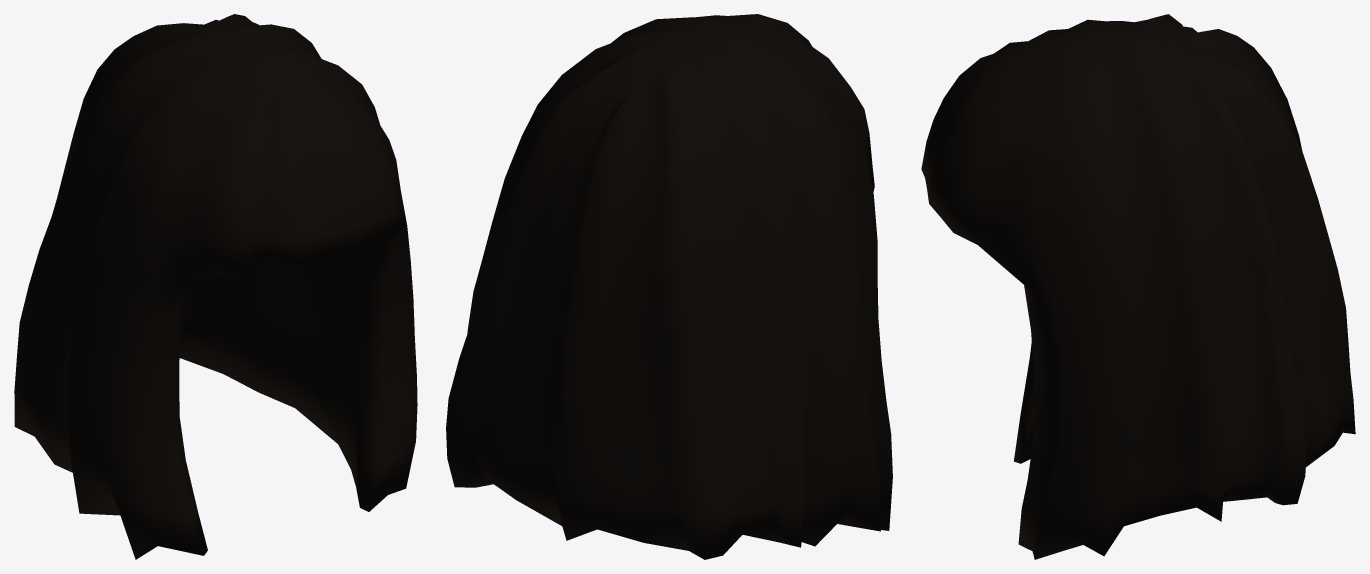
Rendered from femalehair1.glb.
3 views of the same model, side by side, from view 1: azimuth 30°, elevation 25°; view 2: azimuth 150°, elevation 25°; view 3: azimuth 270°, elevation 25° (orthographic). The views are drawn at different scales.
Visible parts, largest first — view 1: Wolf3D_Hair; view 2: Wolf3D_Hair; view 3: Wolf3D_Hair.
Part boxes in pixels (bbox=[...]): Wolf3D_Hair: bbox=[14, 14, 417, 559]; Wolf3D_Hair: bbox=[446, 14, 892, 559]; Wolf3D_Hair: bbox=[921, 14, 1355, 559].
Size of the model in its own units: 0.2341 by 0.3072 by 0.2539.
1 material, 1 textured.
